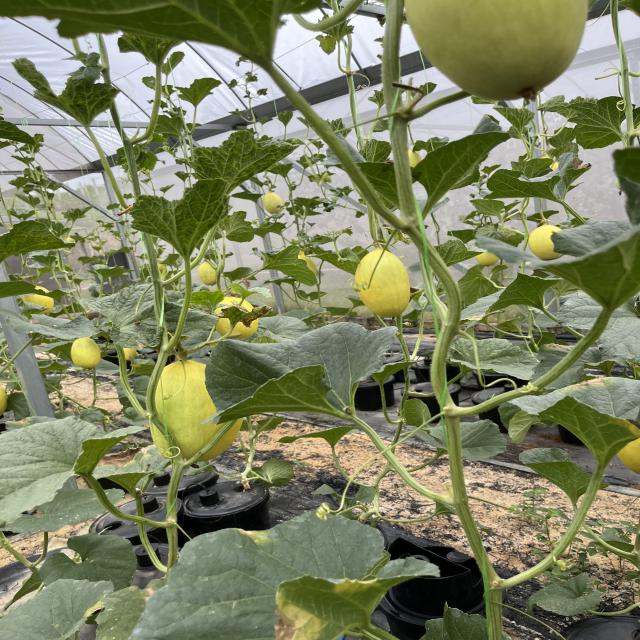CMV: (122, 180, 239, 256), (11, 54, 117, 131), (187, 129, 299, 192), (564, 95, 626, 151), (0, 217, 76, 262), (117, 28, 188, 66)
SLCV: (84, 283, 163, 352)
alternaria leaf blight: (134, 512, 428, 640), (0, 419, 129, 520), (504, 376, 640, 464), (459, 272, 561, 329), (484, 152, 600, 200), (93, 445, 173, 487)
bacterial wilt: (214, 305, 272, 328)
downy mildew: (197, 320, 404, 432), (0, 579, 112, 640), (38, 530, 142, 588), (448, 338, 539, 380)
healthy: (412, 127, 509, 200), (252, 243, 318, 285)
